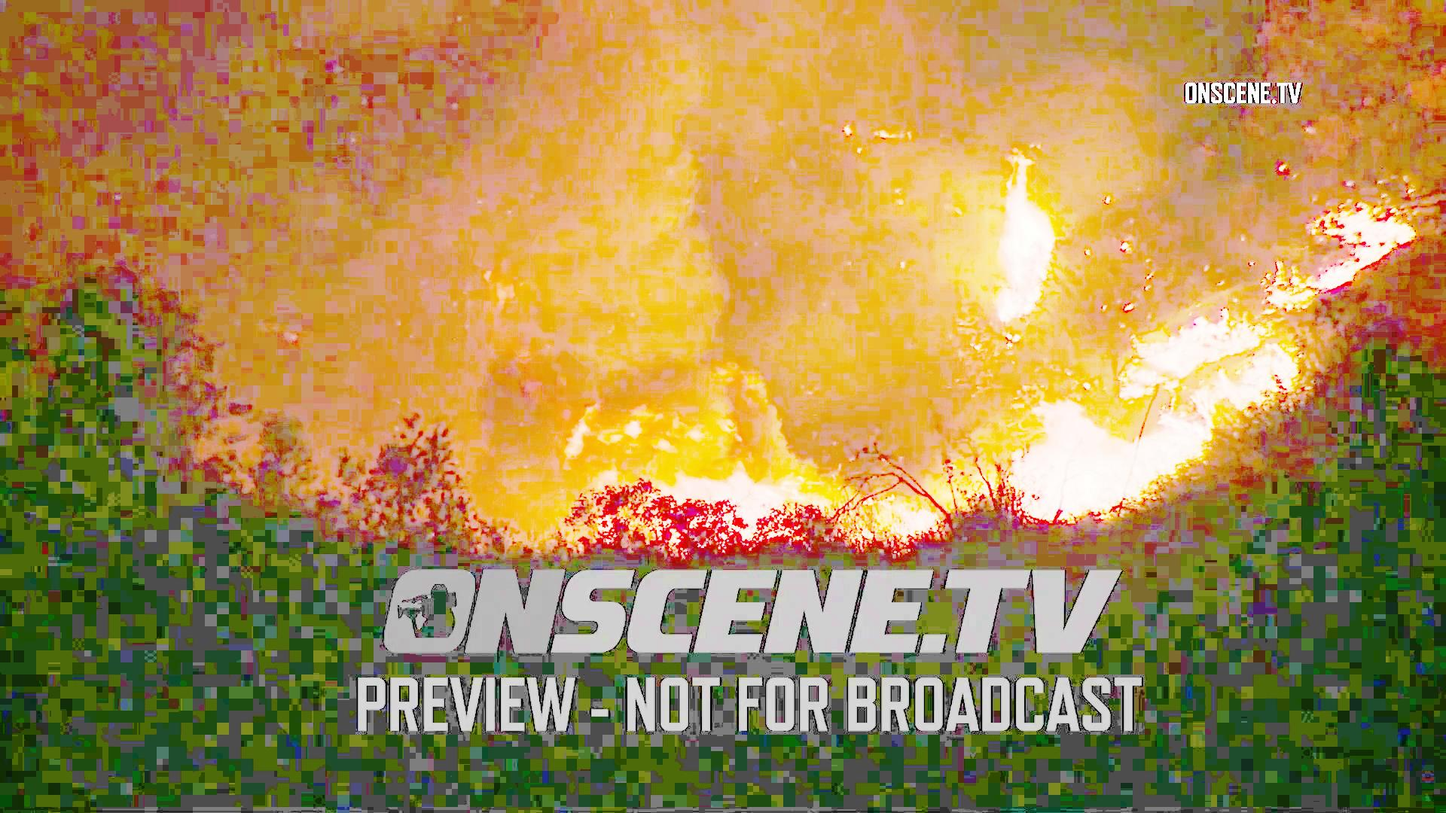fire: (571, 401, 793, 545), (1115, 292, 1284, 420), (970, 153, 1076, 344), (1019, 401, 1144, 523)
